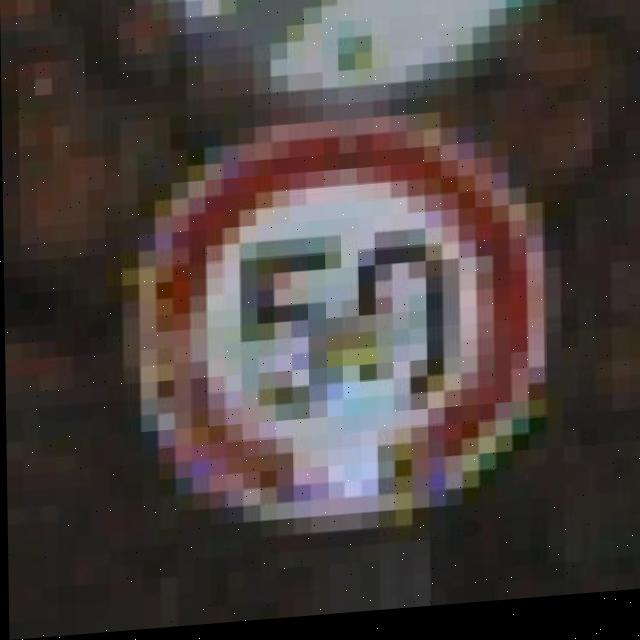Speed limit 50: (127, 104, 552, 547)
